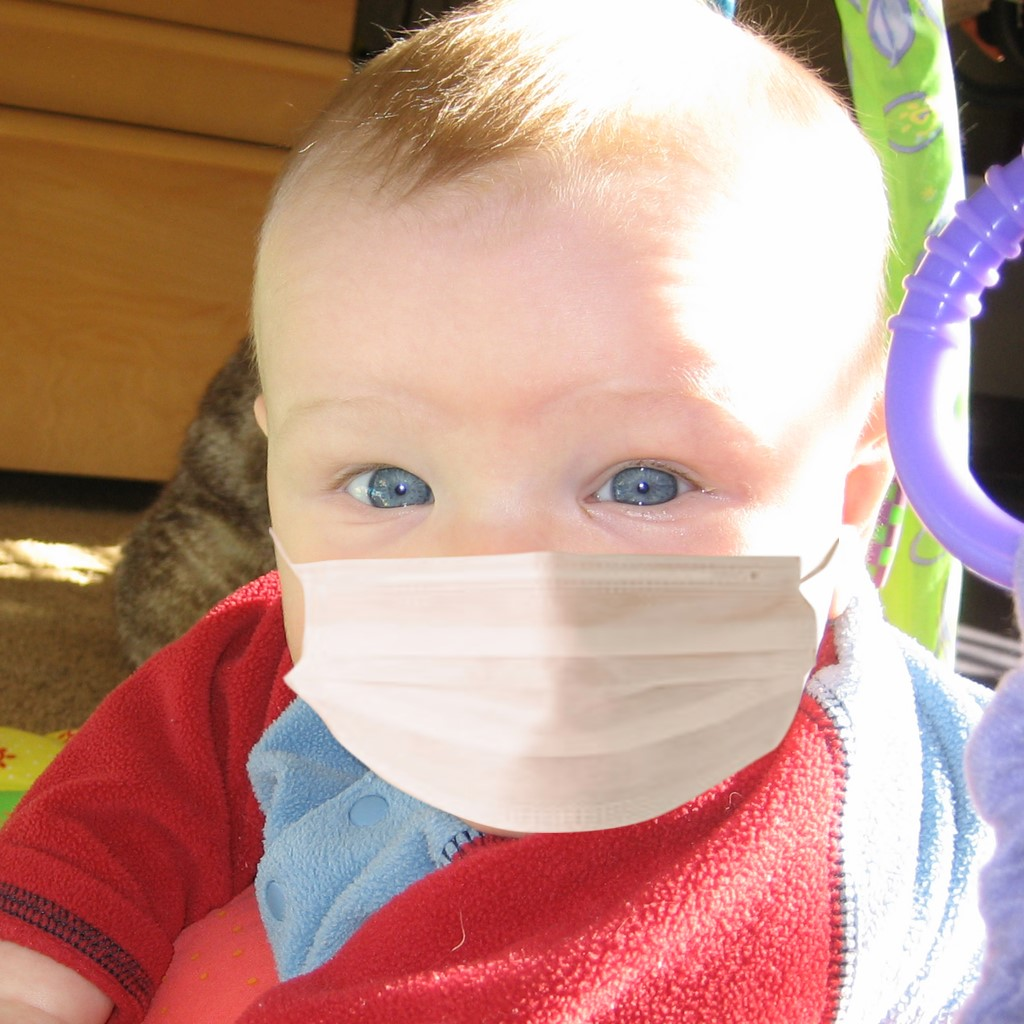con_mascara: (240, 59, 839, 846)
